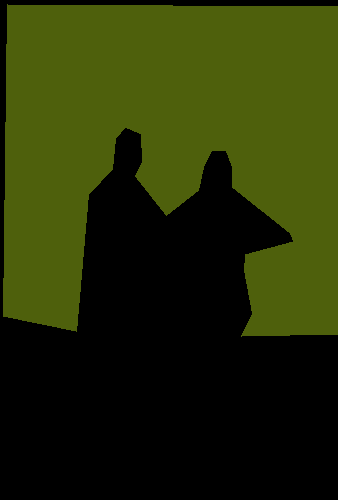Train: (3, 4, 338, 337)
